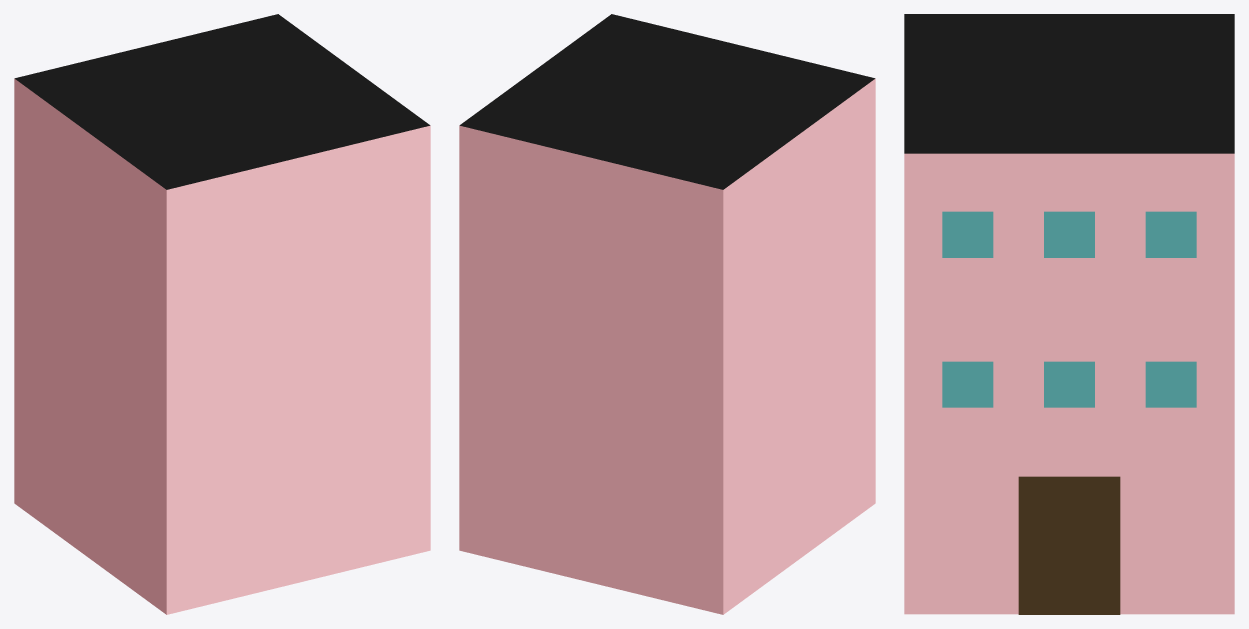
The model's file is apartment1.fbx.
3 renders of one model, left to right at view 1: azimuth 30°, elevation 25°; view 2: azimuth 150°, elevation 25°; view 3: azimuth 270°, elevation 25°, orthographic. The views are drawn at different scales.
Visible parts, largest first — view 1: Plane, Plane.003, Plane.004; view 2: Plane.001, Plane.003, Plane.004; view 3: Plane.002, Plane.004, Plane.005, Plane.007, Plane.008, Plane.009, Plane.011, Plane.006, Plane.010.
Boxes of the visible parts, x1,y1,x2,y2 form: Plane: (166,125,430,614); Plane.003: (14,78,166,614); Plane.004: (14,14,430,189); Plane.001: (459,125,723,614); Plane.003: (723,78,875,614); Plane.004: (459,14,875,189); Plane.002: (904,153,1234,614); Plane.004: (904,14,1234,153); Plane.005: (1018,476,1120,614); Plane.007: (942,361,993,407); Plane.008: (1145,361,1196,407); Plane.009: (942,211,993,257); Plane.011: (1145,211,1196,257); Plane.006: (1044,361,1094,407); Plane.010: (1044,211,1094,257).
Bounding box in the file's own units: 261 × 400 × 260.
